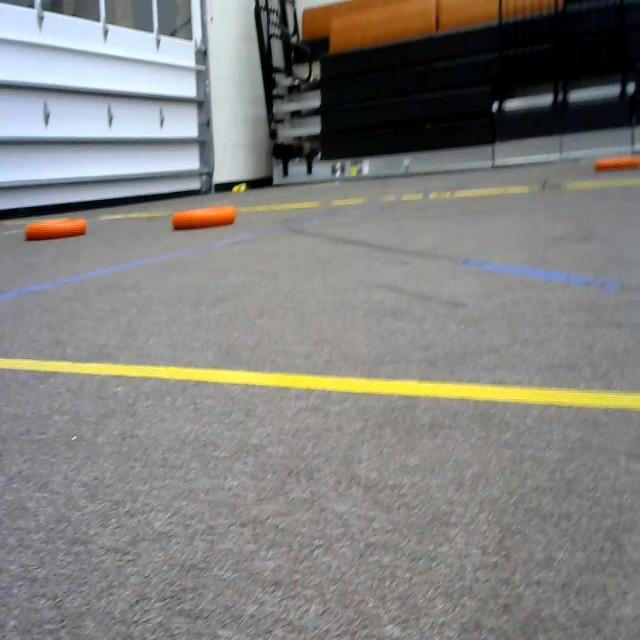note: (170, 200, 237, 242), (22, 213, 89, 247), (592, 150, 640, 173)
